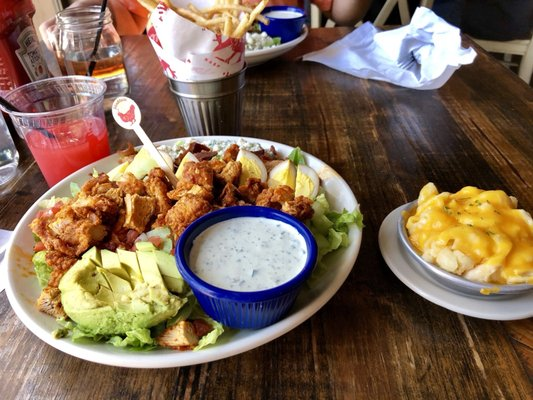pizza: (165, 65, 247, 138)
salad: (111, 96, 175, 175)
sushi: (175, 205, 318, 331), (396, 182, 533, 299)
